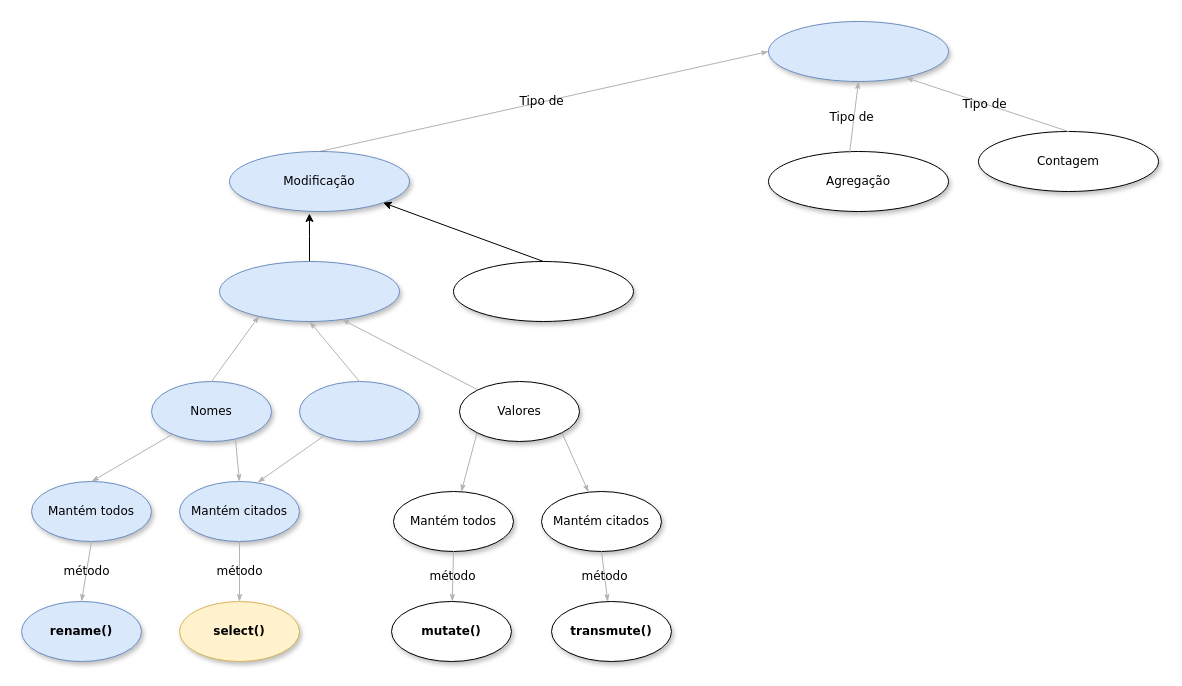
The diagram is 1182 pixels wide and 686 high, and some of its shapes have lost their labels. The centre of each missing label's shape, as x and y in pixels:
Colunas: point 310,292
Linhas: point 544,292
Posições: point 360,412
Tratamento com dplyr: point 859,52
